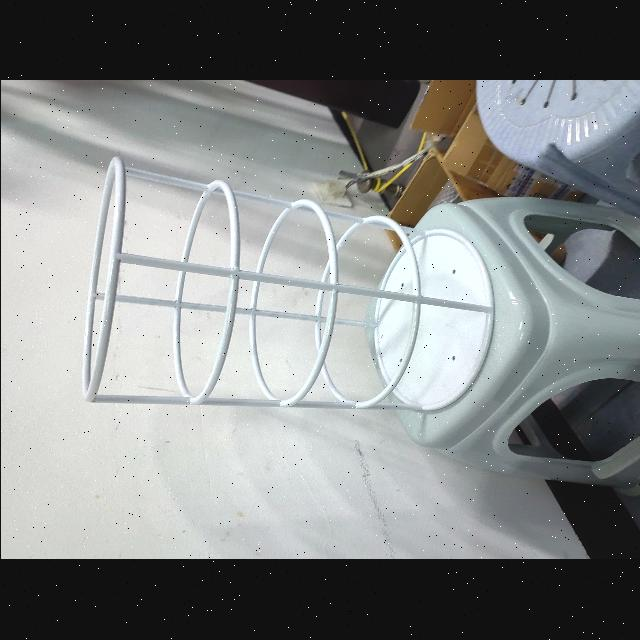S: (76, 151, 504, 423)
